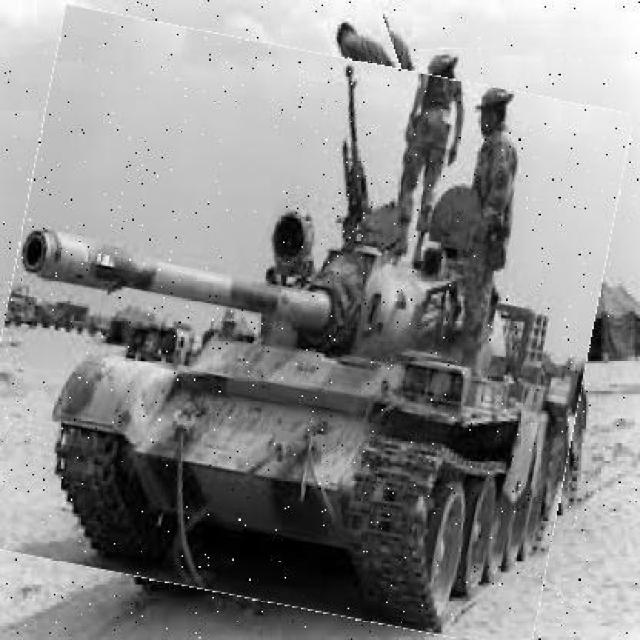Person: (342, 7, 438, 244), (423, 51, 492, 340)
Tank: (1, 32, 612, 630)
